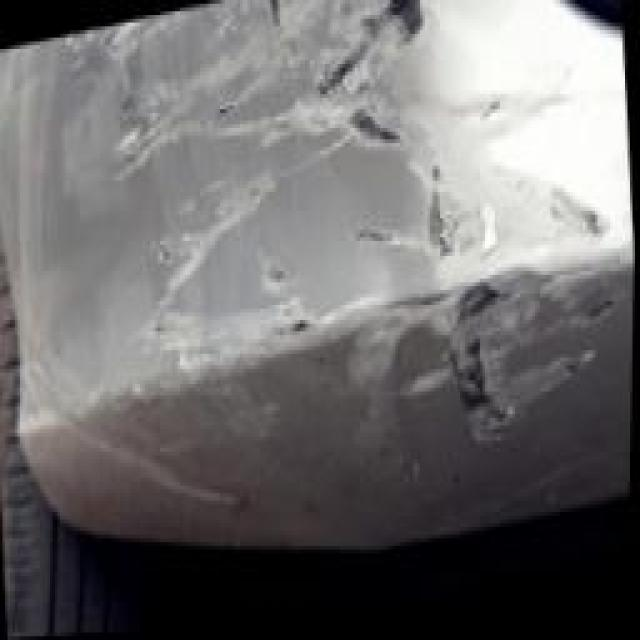Bumper: (0, 0, 640, 629)
